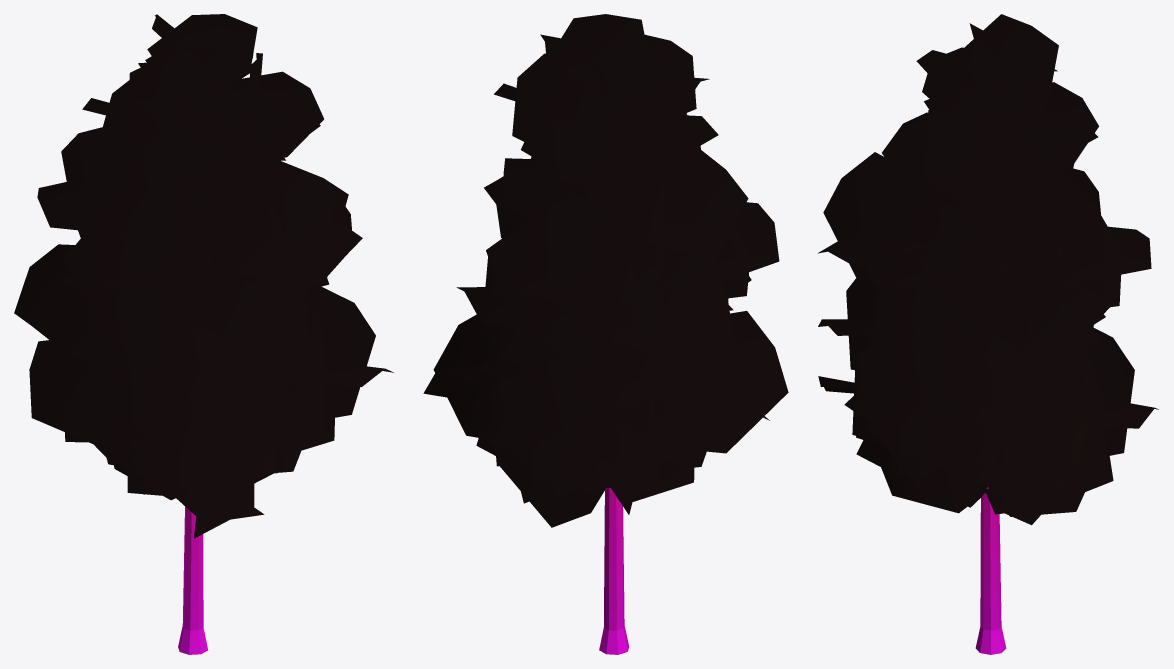
File: Tree_Birch_01.FBX
3 renders of one model, left to right at view 1: azimuth 30°, elevation 25°; view 2: azimuth 150°, elevation 25°; view 3: azimuth 270°, elevation 25°, orthographic.
Parts seen in each view (by area): view 1: Tree_Birch_01; view 2: Tree_Birch_01; view 3: Tree_Birch_01.
Part boxes in pixels (x1=…): Tree_Birch_01: x1=14, y1=14, x2=394, y2=654; Tree_Birch_01: x1=423, y1=14, x2=788, y2=654; Tree_Birch_01: x1=817, y1=14, x2=1158, y2=654.
Size of the model in its own units: 245 by 229 by 455.
